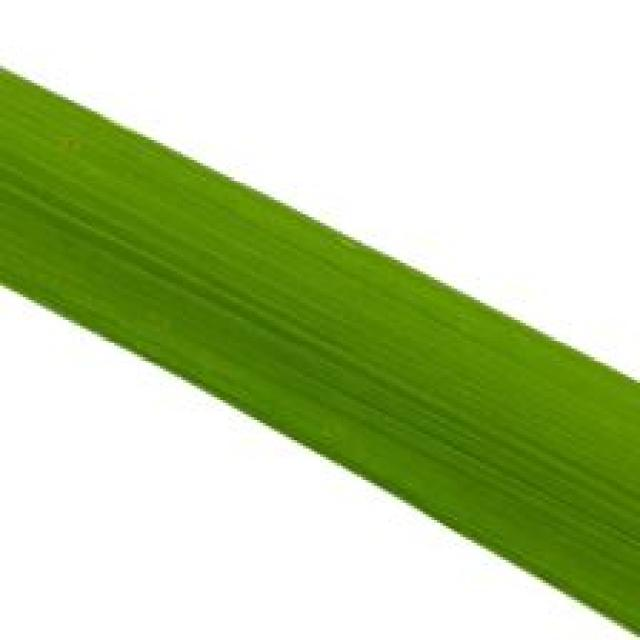Rice___Healthy_Rice_Plant: (0, 64, 637, 635)
